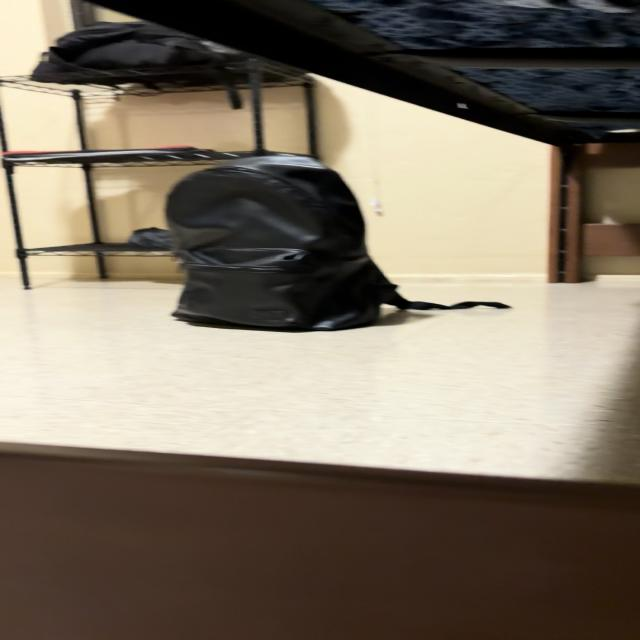backpack: (166, 154, 506, 330), (31, 21, 248, 108)
